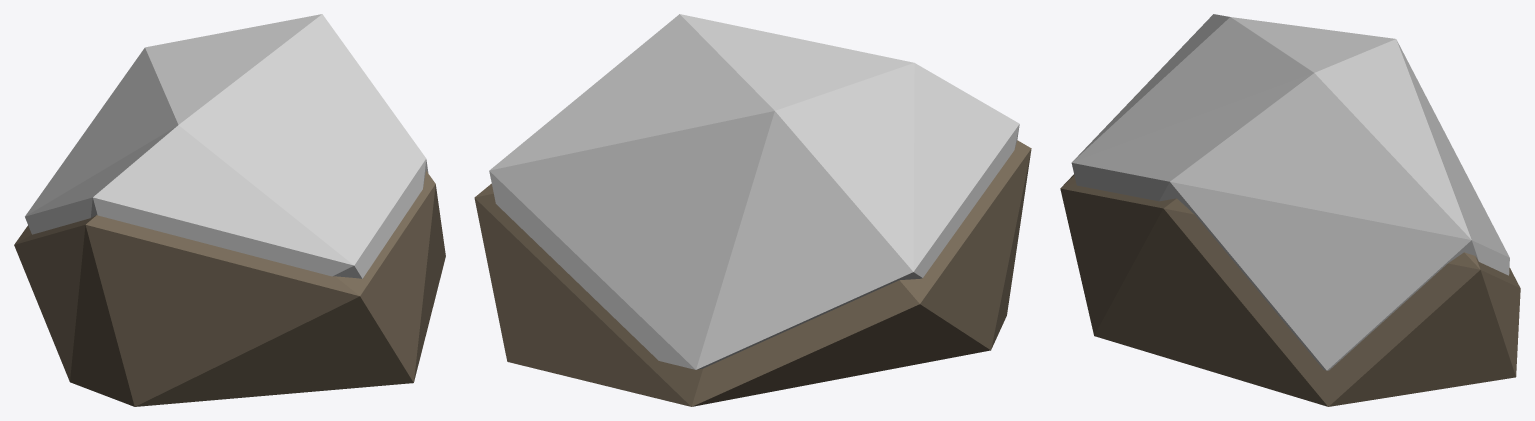
Rendered from Stone_3_snow_brown_vc.fbx.
3 views of the same model, side by side, from view 1: azimuth 30°, elevation 25°; view 2: azimuth 150°, elevation 25°; view 3: azimuth 270°, elevation 25° (orthographic). The views are drawn at different scales.
Visible parts, largest first — view 1: Stone_3_snow_brown_vc; view 2: Stone_3_snow_brown_vc; view 3: Stone_3_snow_brown_vc.
Part boxes in pixels (x1,y1,x2,y2): Stone_3_snow_brown_vc: (14, 14, 445, 406); Stone_3_snow_brown_vc: (474, 14, 1031, 406); Stone_3_snow_brown_vc: (1060, 14, 1520, 406).
Size of the model in its own units: 23.08 by 14.76 by 22.42.
